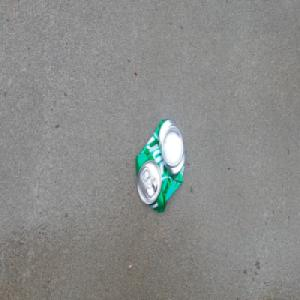SodaCan: (134, 117, 186, 215)
